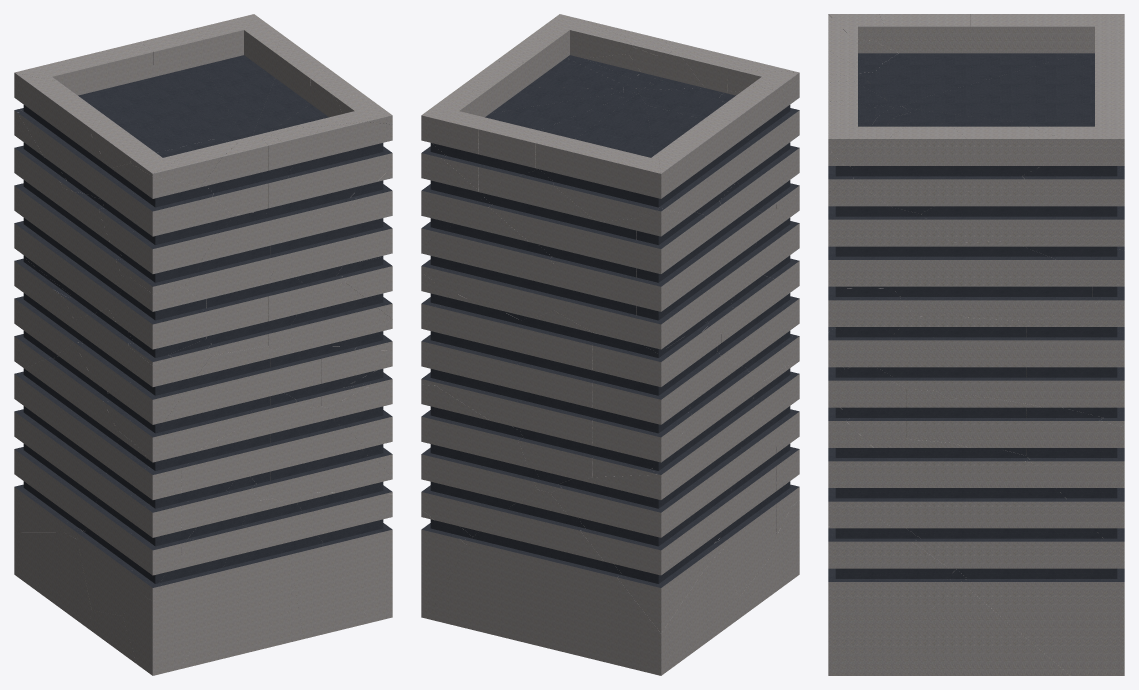
File: building2_broken.fbx
3 renders of one model, left to right at view 1: azimuth 30°, elevation 25°; view 2: azimuth 150°, elevation 25°; view 3: azimuth 270°, elevation 25°, orthographic. The views are drawn at different scales.
Visible parts, largest first — view 1: Mesh1 Model_cell.026, Mesh1 Model_cell.047, Mesh1 Model_cell.052, Mesh1 Model_cell.058, Mesh1 Model_cell.048, Mesh1 Model_cell.040, Mesh1 Model_cell.013, Mesh1 Model_cell.067, Mesh1 Model_cell.068, Mesh1 Model_cell.007, Mesh1 Model_cell.021, Mesh1 Model_cell.066 (+39 smaller); view 2: Mesh1 Model_cell.057, Mesh1 Model_cell.058, Mesh1 Model_cell.073, Mesh1 Model_cell.074, Mesh1 Model_cell.083, Mesh1 Model_cell.048, Mesh1 Model_cell.049, Mesh1 Model_cell.045, Mesh1 Model_cell.054, Mesh1 Model_cell.013, Mesh1 Model_cell, Mesh1 Model_cell.007 (+26 smaller); view 3: Mesh1 Model_cell.055, Mesh1 Model_cell.040, Mesh1 Model_cell.075, Mesh1 Model_cell.078, Mesh1 Model_cell.033, Mesh1 Model_cell.083, Mesh1 Model_cell.013, Mesh1 Model_cell.048, Mesh1 Model_cell.071, Mesh1 Model_cell.069, Mesh1 Model_cell.065, Mesh1 Model_cell.001 (+23 smaller).
Boxes of the visible parts, x1,y1,x2,y2 form: Mesh1 Model_cell.026: (122,476,259,675); Mesh1 Model_cell.047: (200,498,294,663); Mesh1 Model_cell.052: (130,163,231,293); Mesh1 Model_cell.058: (14,351,71,532); Mesh1 Model_cell.048: (15,42,238,140); Mesh1 Model_cell.040: (297,482,392,622); Mesh1 Model_cell.013: (14,72,213,199); Mesh1 Model_cell.067: (144,346,273,462); Mesh1 Model_cell.068: (267,121,392,219); Mesh1 Model_cell.007: (77,431,135,615); Mesh1 Model_cell.021: (63,342,119,539); Mesh1 Model_cell.066: (197,14,282,137); Mesh1 Model_cell.057: (428,489,738,675); Mesh1 Model_cell.058: (550,381,709,633); Mesh1 Model_cell.073: (592,322,720,477); Mesh1 Model_cell.074: (517,310,593,492); Mesh1 Model_cell.083: (421,384,539,536); Mesh1 Model_cell.048: (535,93,660,221); Mesh1 Model_cell.049: (421,197,556,320); Mesh1 Model_cell.045: (636,206,709,353); Mesh1 Model_cell.054: (435,283,520,431); Mesh1 Model_cell.013: (646,105,752,217); Mesh1 Model_cell: (554,218,636,343); Mesh1 Model_cell.007: (720,372,776,597); Mesh1 Model_cell.055: (948,443,1124,675); Mesh1 Model_cell.040: (828,518,957,675); Mesh1 Model_cell.075: (867,569,1069,675); Mesh1 Model_cell.078: (1026,300,1124,426); Mesh1 Model_cell.033: (948,241,1103,321); Mesh1 Model_cell.083: (1026,405,1124,560); Mesh1 Model_cell.013: (927,14,1123,96); Mesh1 Model_cell.048: (905,14,1124,106); Mesh1 Model_cell.071: (852,115,967,213); Mesh1 Model_cell.069: (1055,159,1124,286); Mesh1 Model_cell.065: (878,439,950,568); Mesh1 Model_cell.001: (828,176,892,288).
Size of the model in its own units: 1000 by 2000 by 1000.
